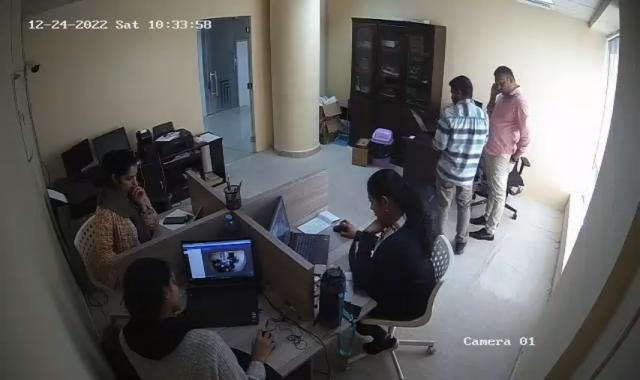no_hairnet: (127, 260, 183, 312), (366, 170, 408, 223), (108, 153, 139, 193), (447, 72, 473, 104), (494, 65, 518, 97)
